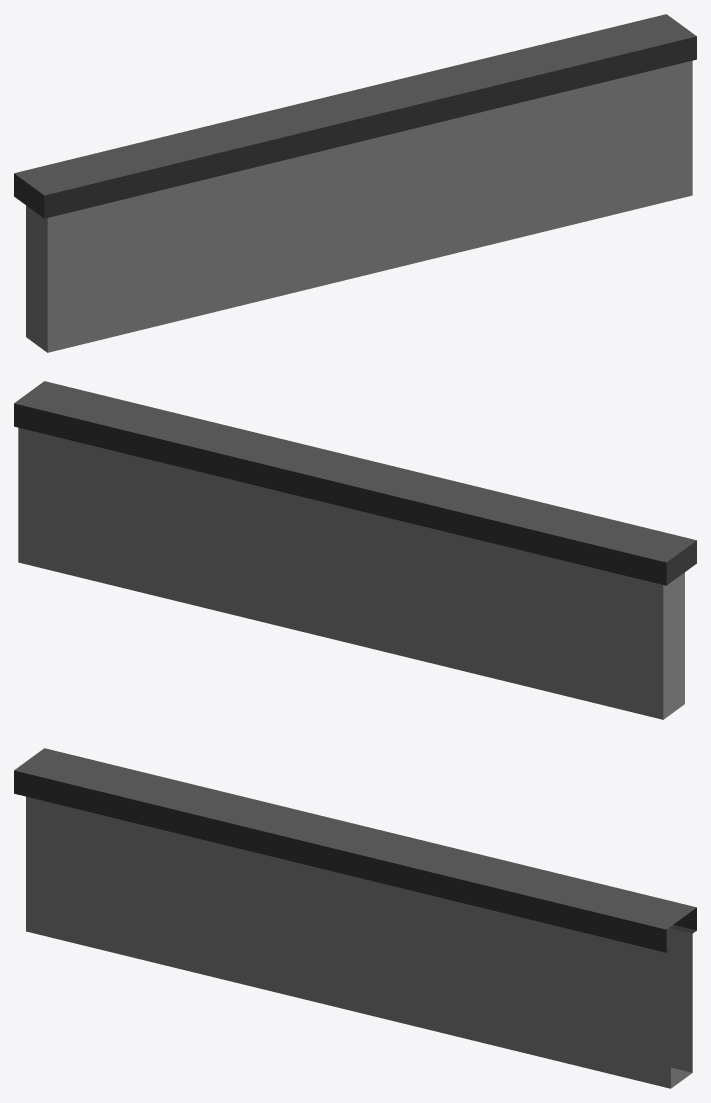
Rendered from SO_Wall_Divider.fbx.
3 views of the same model, one above another, from view 1: azimuth 30°, elevation 25°; view 2: azimuth 150°, elevation 25°; view 3: azimuth 330°, elevation 25° (orthographic).
Visible parts, largest first — view 1: SO_Wall_Divider; view 2: SO_Wall_Divider; view 3: SO_Wall_Divider.
Part boxes in pixels (bbox=[...]): SO_Wall_Divider: bbox=[14, 14, 696, 352]; SO_Wall_Divider: bbox=[14, 381, 696, 719]; SO_Wall_Divider: bbox=[14, 748, 696, 1088].
Size of the model in its own units: 5.09 by 1.21 by 0.4116.
